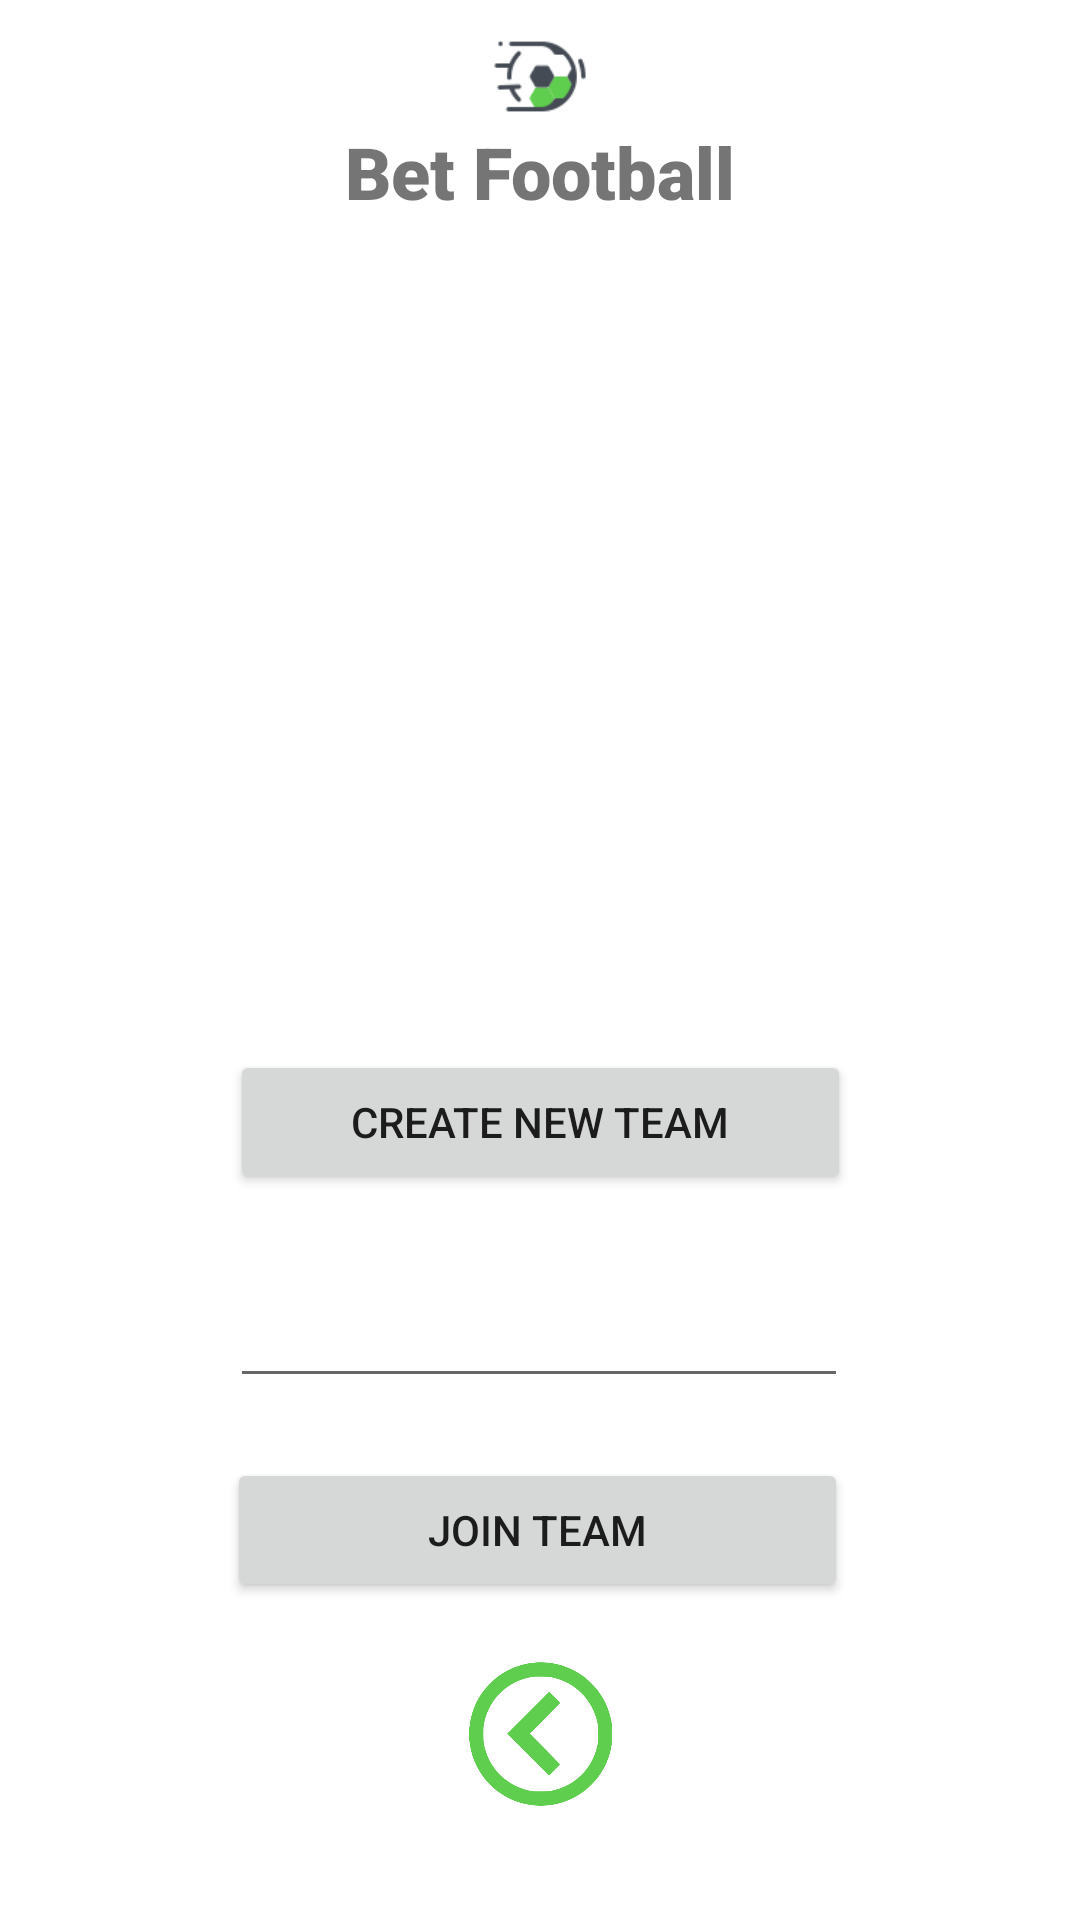

Named icons in this screenshot (1080×1920) and their centers, (x,y):
back: (540,1734)
